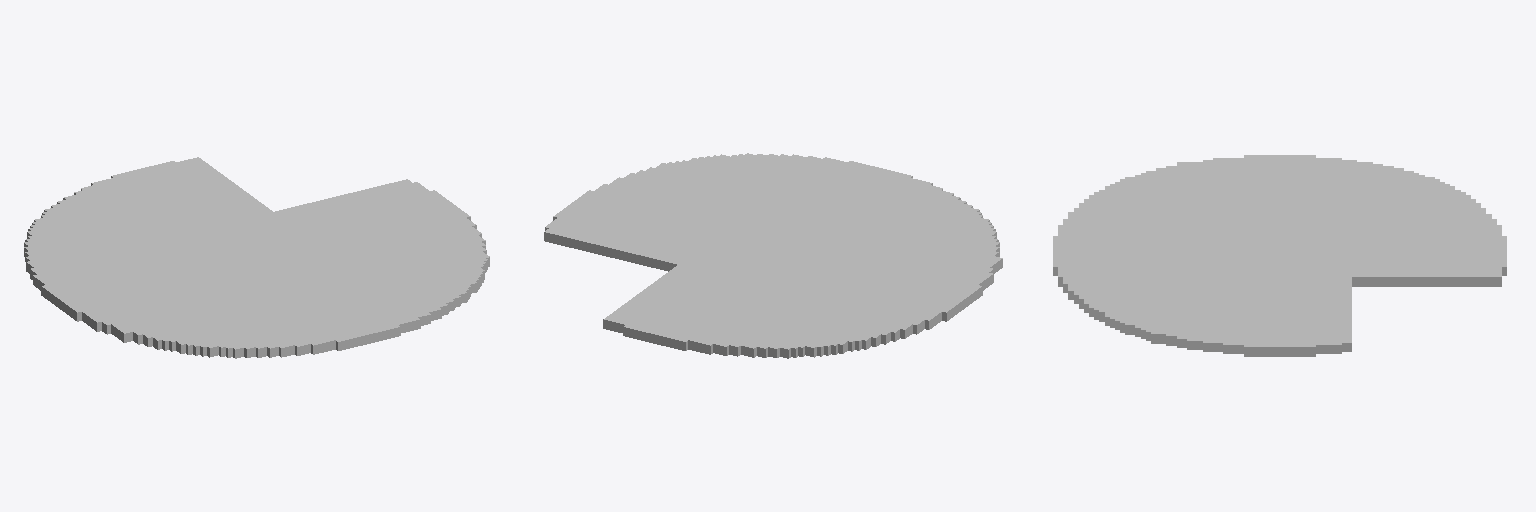
Rendered from 2 лвл-8.obj.
3 renders of one model, left to right at view 1: azimuth 30°, elevation 25°; view 2: azimuth 150°, elevation 25°; view 3: azimuth 270°, elevation 25°, orthographic.
Visible parts, largest first — view 1: object 1; view 2: object 1; view 3: object 1.
Part boxes in pixels (left/top/right/bottom): object 1: left=24, top=157, right=489, bottom=358; object 1: left=544, top=153, right=1002, bottom=358; object 1: left=1053, top=155, right=1506, bottom=356.
Bounding box in the file's own units: 8.8 × 0.2 × 8.8.